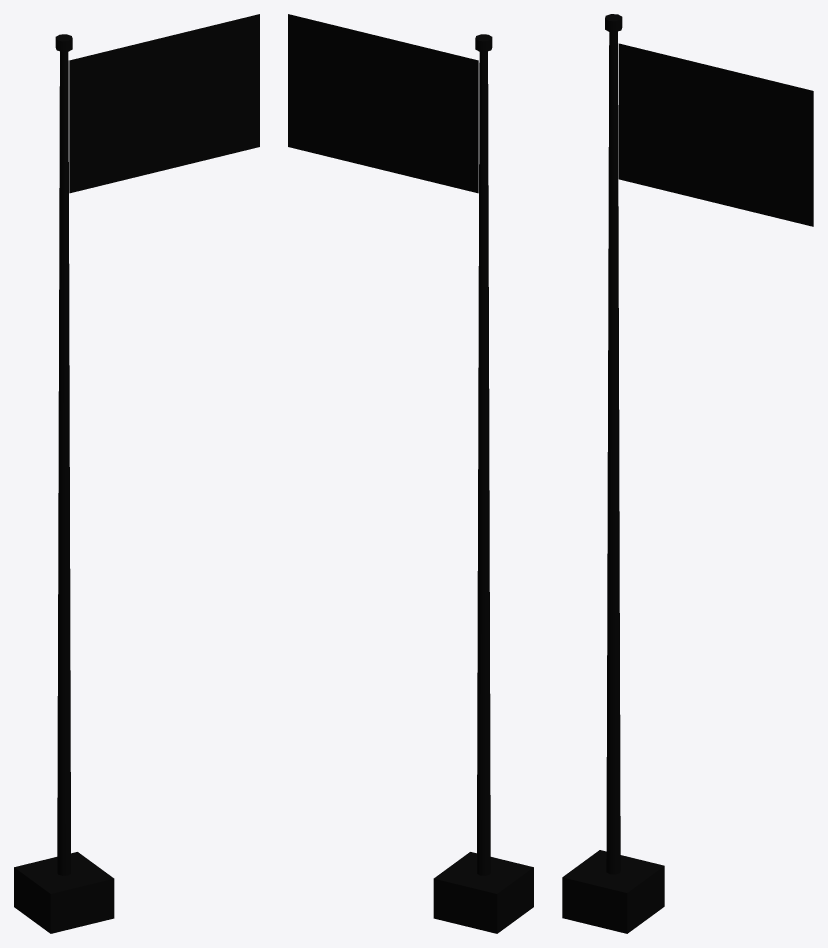
The model's file is SM_flagpole.fbx.
The picture shows the model from 3 angles, left to right: view 1: azimuth 30°, elevation 25°; view 2: azimuth 150°, elevation 25°; view 3: azimuth 330°, elevation 25°; orthographic projection. The views are drawn at different scales.
Parts seen in each view (by area): view 1: flagpole_flag, flagpole; view 2: flagpole_flag, flagpole; view 3: flagpole_flag, flagpole.
Boxes of the visible parts, <box> form: flagpole_flag: <box>69,14,259,193</box>; flagpole: <box>14,34,114,933</box>; flagpole_flag: <box>288,14,478,193</box>; flagpole: <box>433,34,533,933</box>; flagpole_flag: <box>618,43,813,226</box>; flagpole: <box>562,14,664,933</box>.
Bounding box in the file's own units: 1.79 × 6.58 × 0.5.
